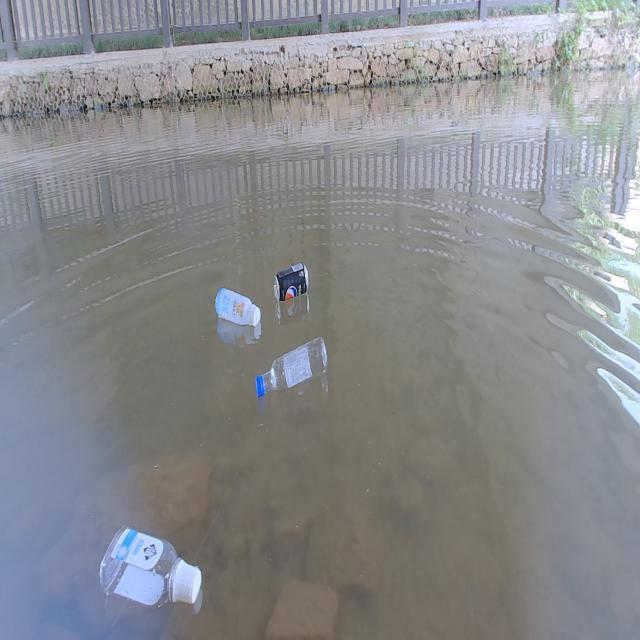garbage: (98, 523, 202, 615), (255, 335, 329, 398), (215, 286, 262, 340), (273, 261, 309, 301)
